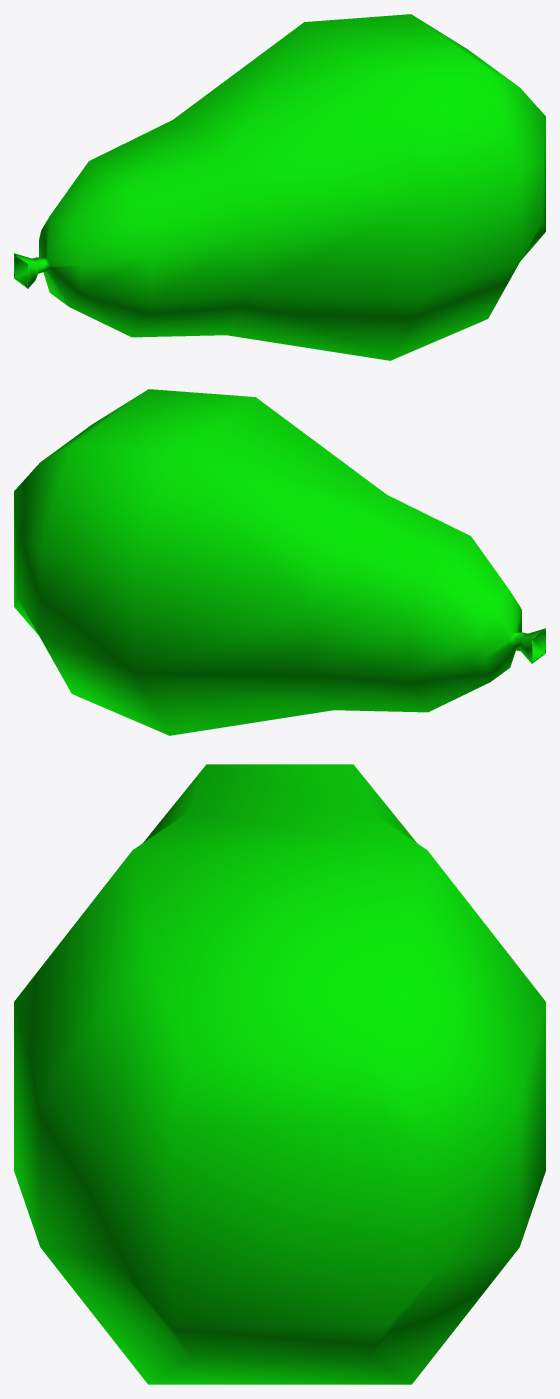
The model's file is green.fbx.
3 views of the same model, one above another, from view 1: azimuth 30°, elevation 25°; view 2: azimuth 150°, elevation 25°; view 3: azimuth 270°, elevation 25° (orthographic). The views are drawn at different scales.
Visible parts, largest first — view 1: balloon_green; view 2: balloon_green; view 3: balloon_green.
Part boxes in pixels (box(x1,y1,x2,y2)): balloon_green: box(14, 14, 545, 360); balloon_green: box(14, 389, 545, 735); balloon_green: box(14, 764, 545, 1384).
Bounding box in the file's own units: 0.2605 × 0.1352 × 0.1381.
